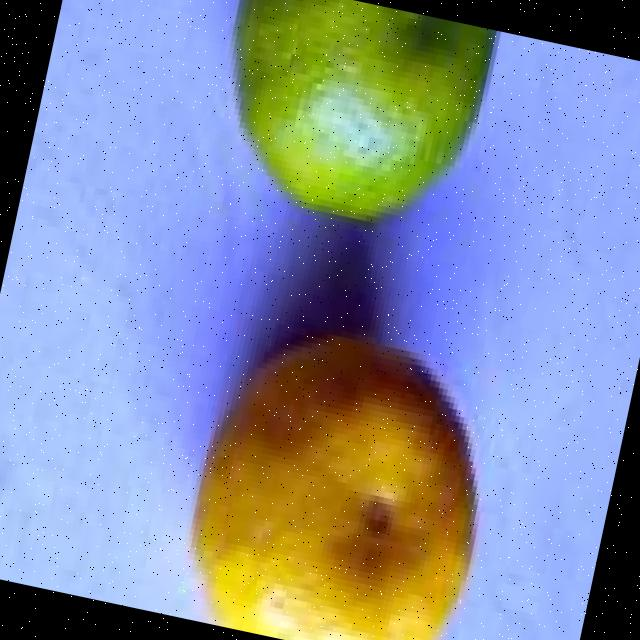Good_Orange-15-21 days: (183, 329, 474, 640), (227, 0, 494, 224)
